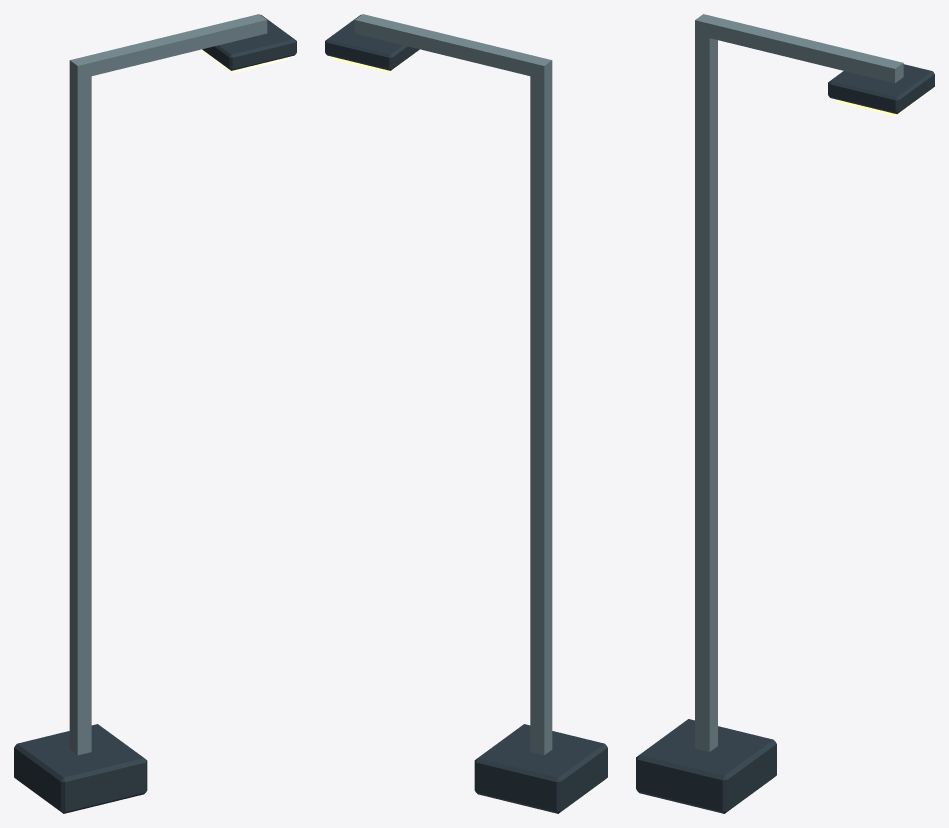
Rendered from street-lamp.glb.
The picture shows the model from 3 angles, left to right: view 1: azimuth 30°, elevation 25°; view 2: azimuth 150°, elevation 25°; view 3: azimuth 330°, elevation 25°; orthographic projection. The views are drawn at different scales.
Parts seen in each view (by area): view 1: street_lamp; view 2: street_lamp; view 3: street_lamp.
Part boxes in pixels (left/top/right/bottom): street_lamp: left=14, top=14, right=296, bottom=813; street_lamp: left=325, top=14, right=607, bottom=813; street_lamp: left=636, top=14, right=934, bottom=813.
Size of the model in its own units: 1.4 by 4 by 0.5.
